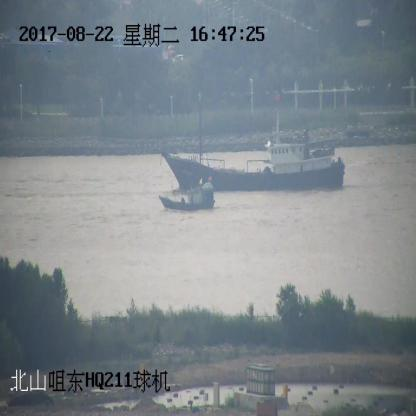Fishing Boat: (160, 91, 346, 192), (160, 176, 212, 212)
